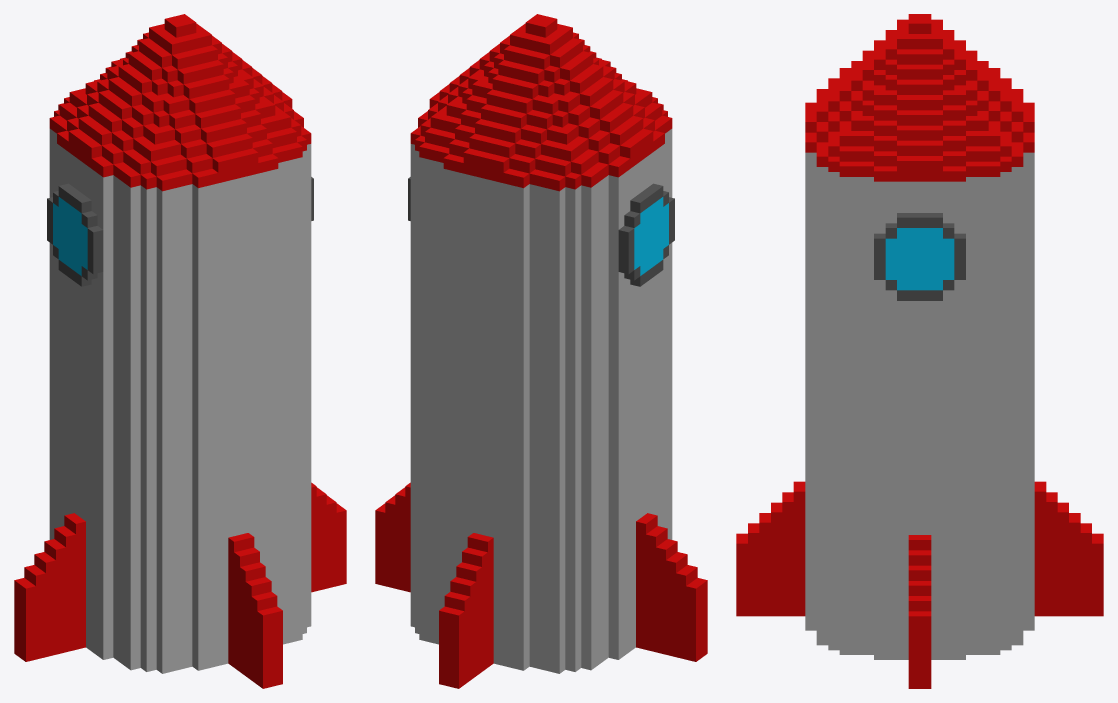
The model's file is Raket.obj.
3 views of the same model, side by side, from view 1: azimuth 30°, elevation 25°; view 2: azimuth 150°, elevation 25°; view 3: azimuth 270°, elevation 25° (orthographic).
Size of the model in its own units: 3.2 by 5.7 by 3.2.
1 material, 1 textured.
